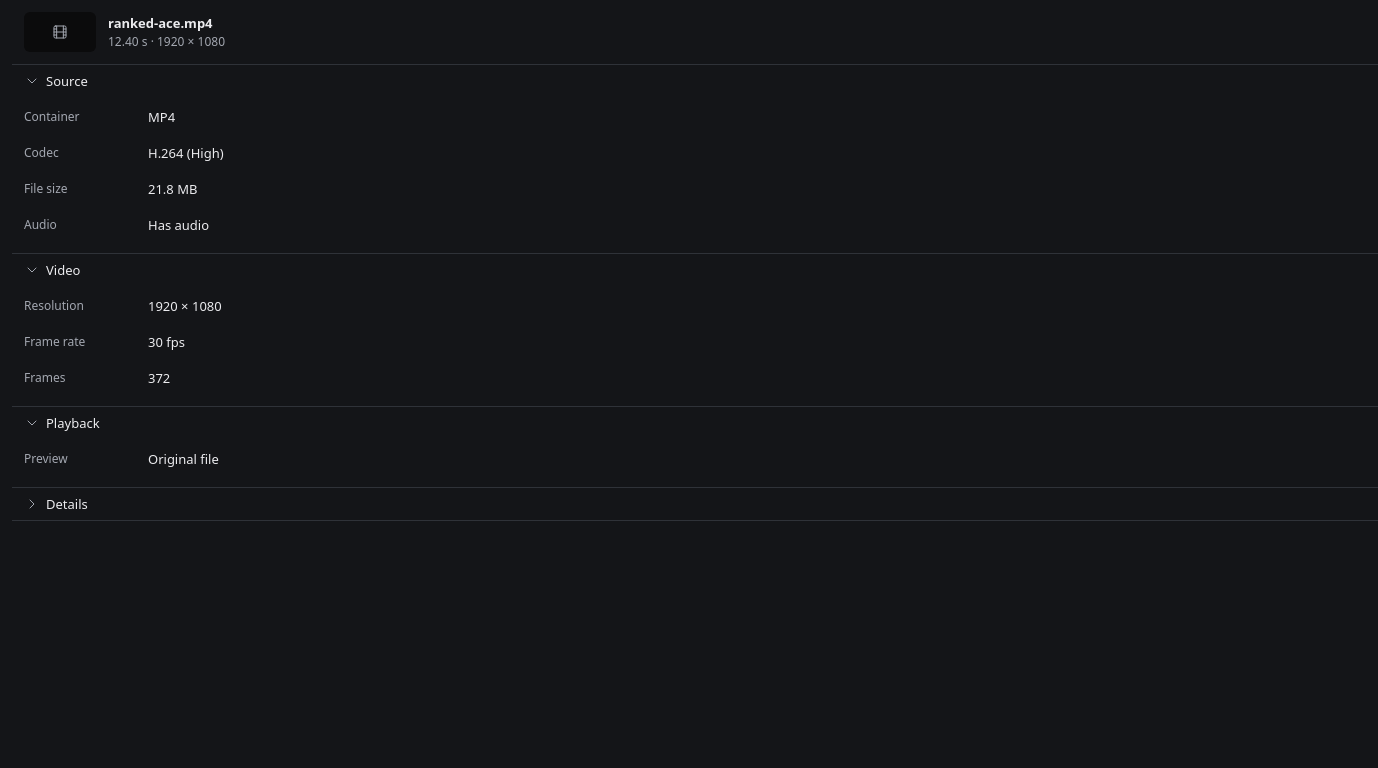
Test: MediaPanel › keeps the colour facts under Details, which opens on request
Expected: the text "8-bit, yuv420p" is not shown
Click the button "Details". click: (67, 504)
box: [12,488,1370,520]
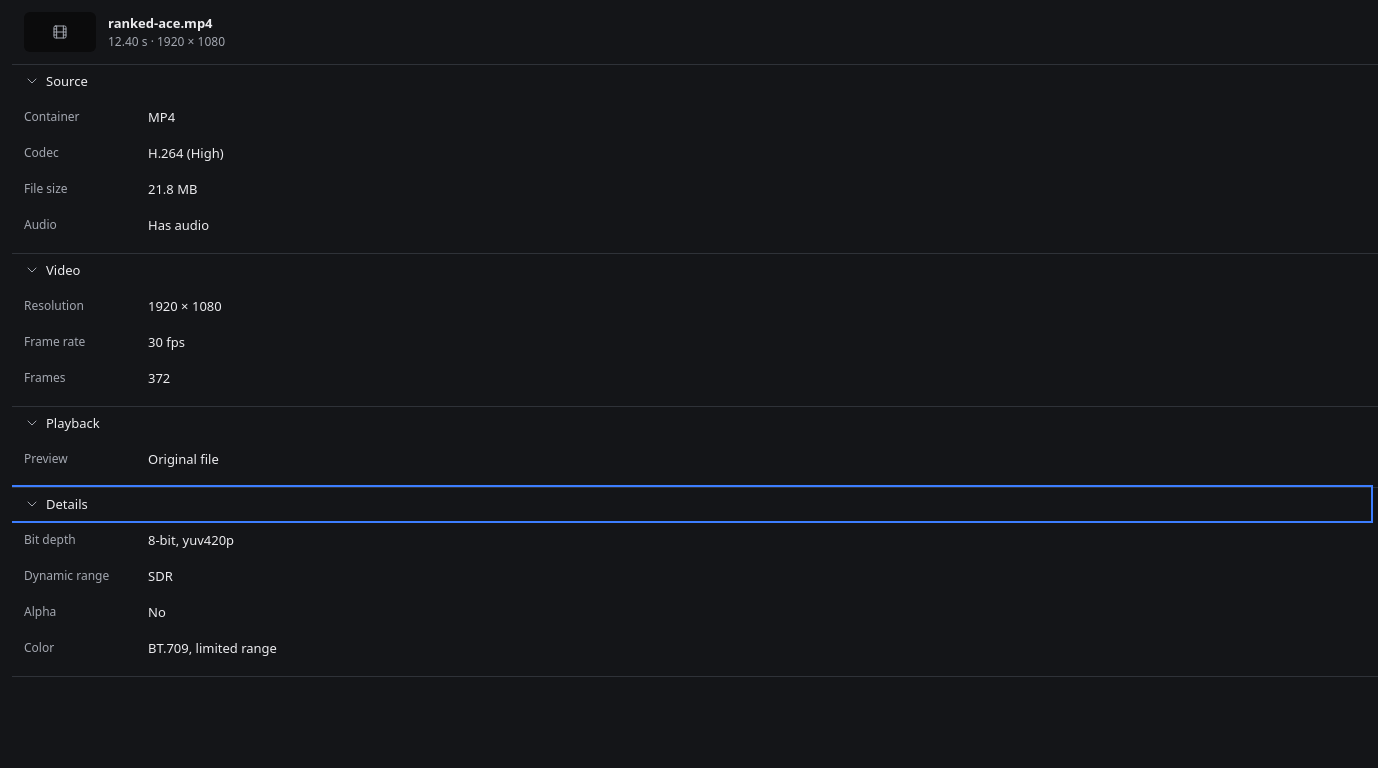
Expected: the text "8-bit, yuv420p" is shown, [148,531,234,549]
Expected: the text "BT.709, limited range" is shown, [148,639,277,657]
